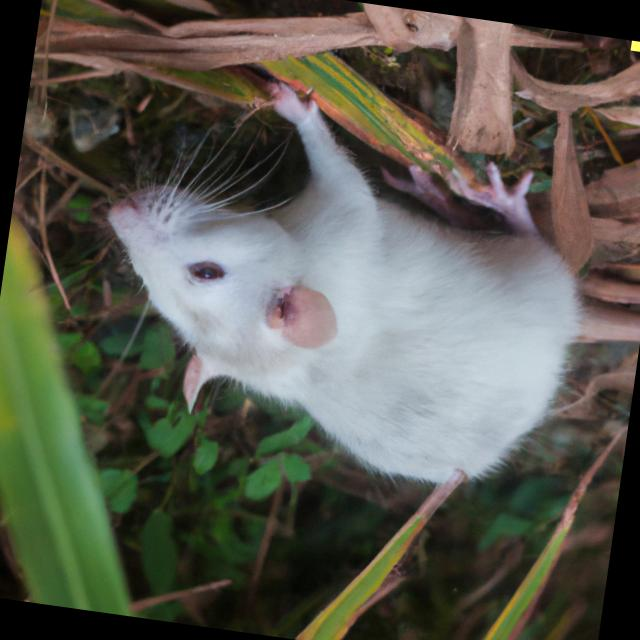rodents: (56, 76, 616, 510)
